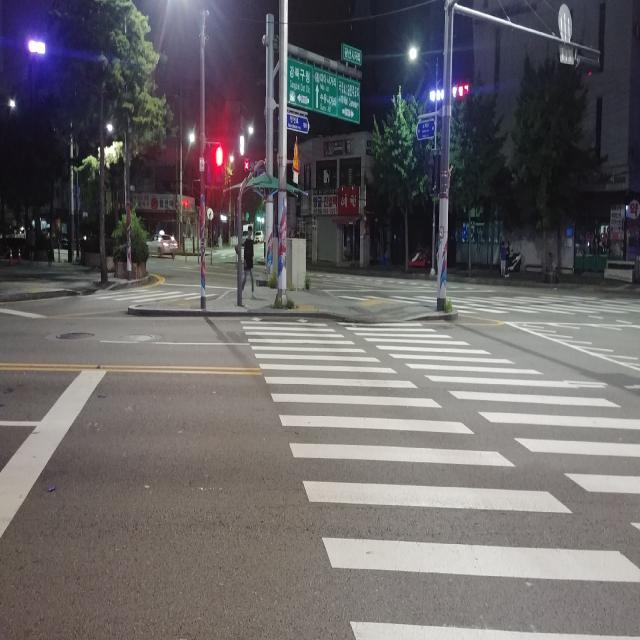빨간불: (208, 146, 228, 200)
횡단보도: (238, 313, 640, 640)
